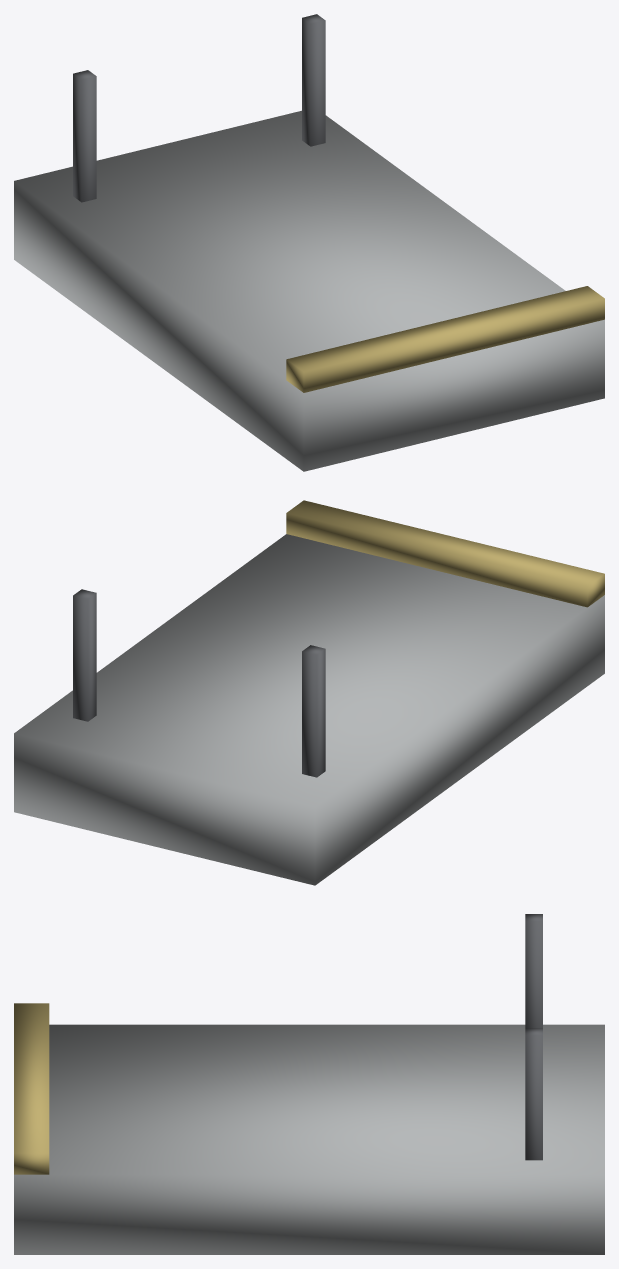
Rendered from loading_dock_10.glb.
3 views of the same model, one above another, from view 1: azimuth 30°, elevation 25°; view 2: azimuth 150°, elevation 25°; view 3: azimuth 270°, elevation 25° (orthographic).
Visible parts, largest first — view 1: world; view 2: world; view 3: world.
Part boxes in pixels (left/top/right/bottom): world: left=14, top=14, right=604, bottom=471; world: left=14, top=500, right=604, bottom=885; world: left=14, top=914, right=604, bottom=1254.
Bounding box in the file's own units: 1.8 × 1.15 × 3.
